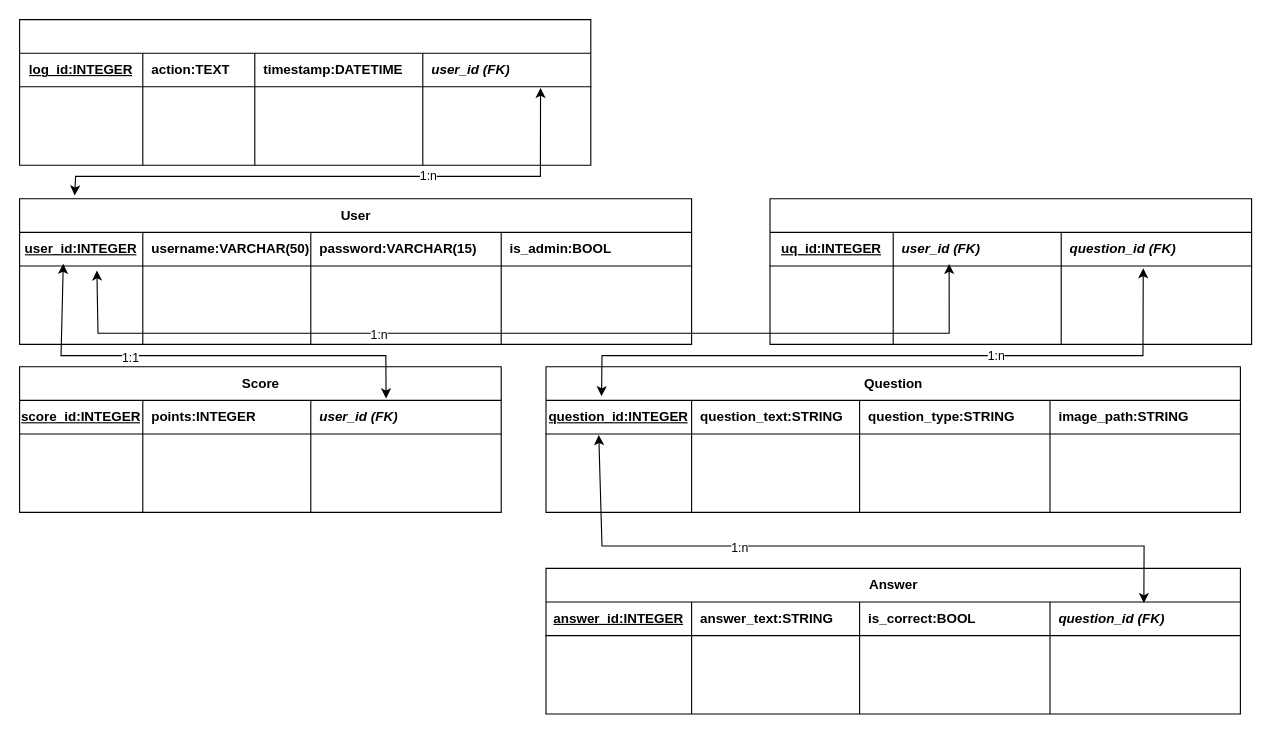
The diagram is 1271 pixels wide and 734 high, and some of its shapes have lost their labels. Each missing label, with the box of its shape:
Logging: (18, 18, 591, 165)
User_Question: (769, 198, 1252, 344)
